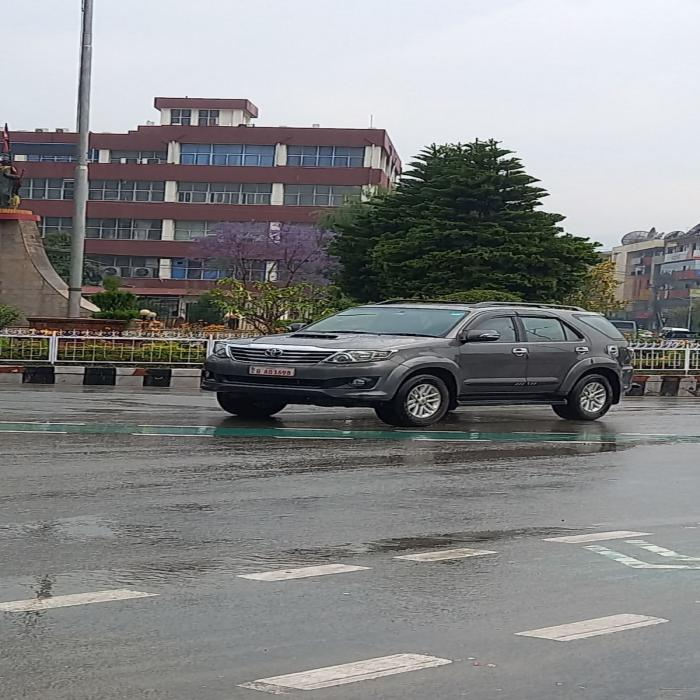number_plate: (248, 366, 294, 375)
